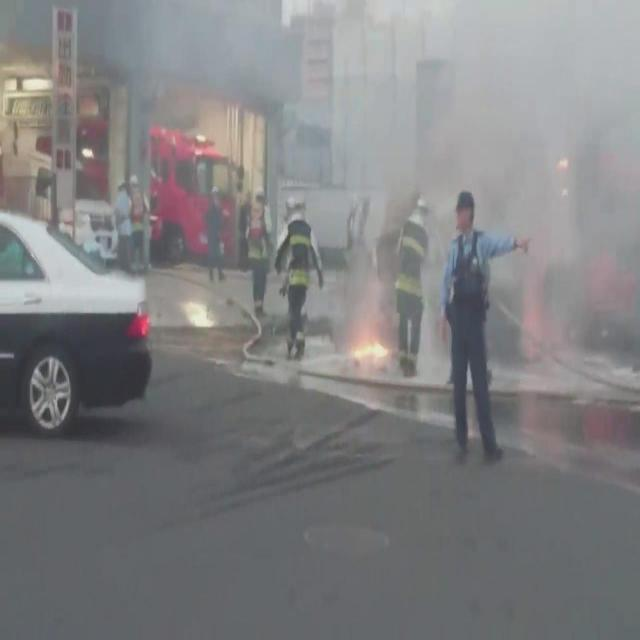Fire: (348, 337, 388, 360)
